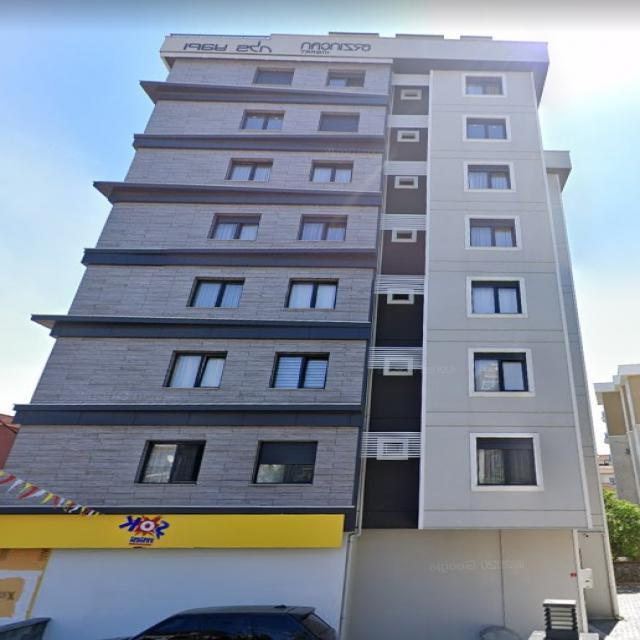Building: (0, 31, 621, 640)
